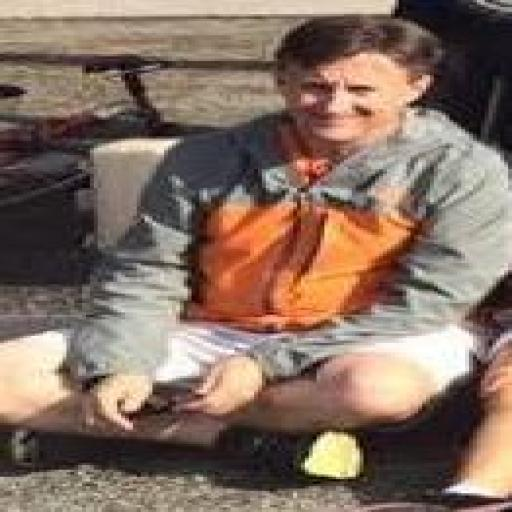person: (0, 15, 511, 476)
